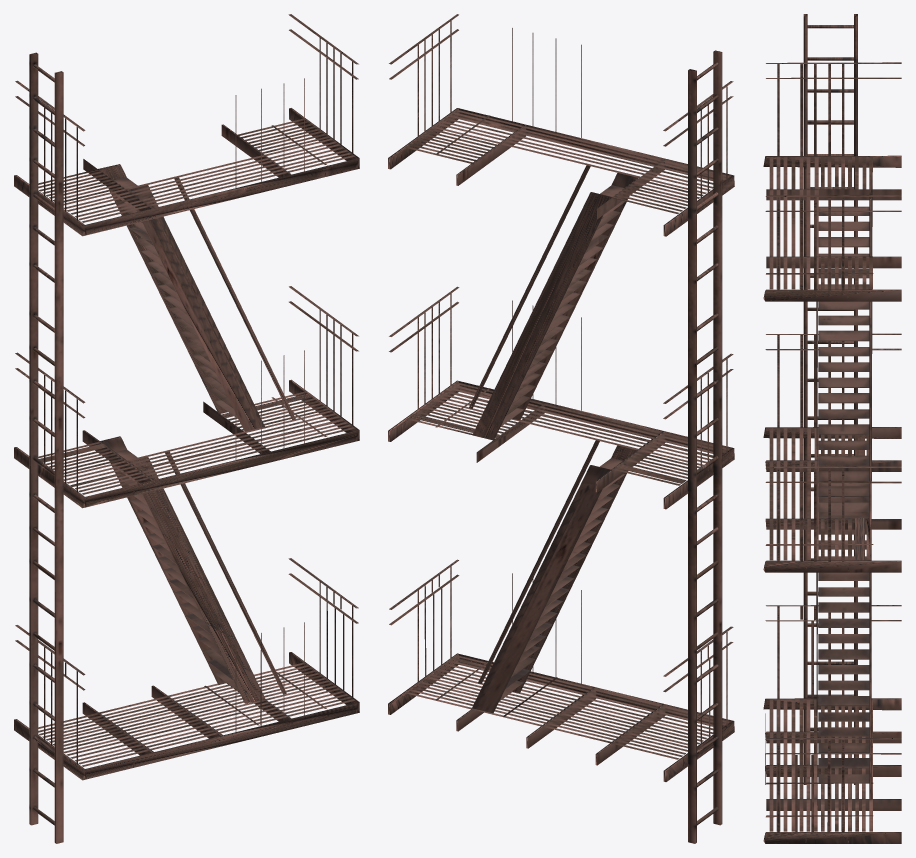
The model's file is fire_escape_sf.glb.
3 renders of one model, left to right at view 1: azimuth 30°, elevation 25°; view 2: azimuth 150°, elevation 25°; view 3: azimuth 270°, elevation 25°, orthographic.
Parts seen in each view (by area): view 1: fire_escape_sf; view 2: fire_escape_sf; view 3: fire_escape_sf.
Boxes of the visible parts, bbox=[...] form: fire_escape_sf: bbox=[14, 14, 359, 843]; fire_escape_sf: bbox=[388, 14, 734, 843]; fire_escape_sf: bbox=[763, 14, 901, 843].
Bounding box in the file's own units: 4.22 × 10.92 × 1.79.
1 material, 1 textured.
